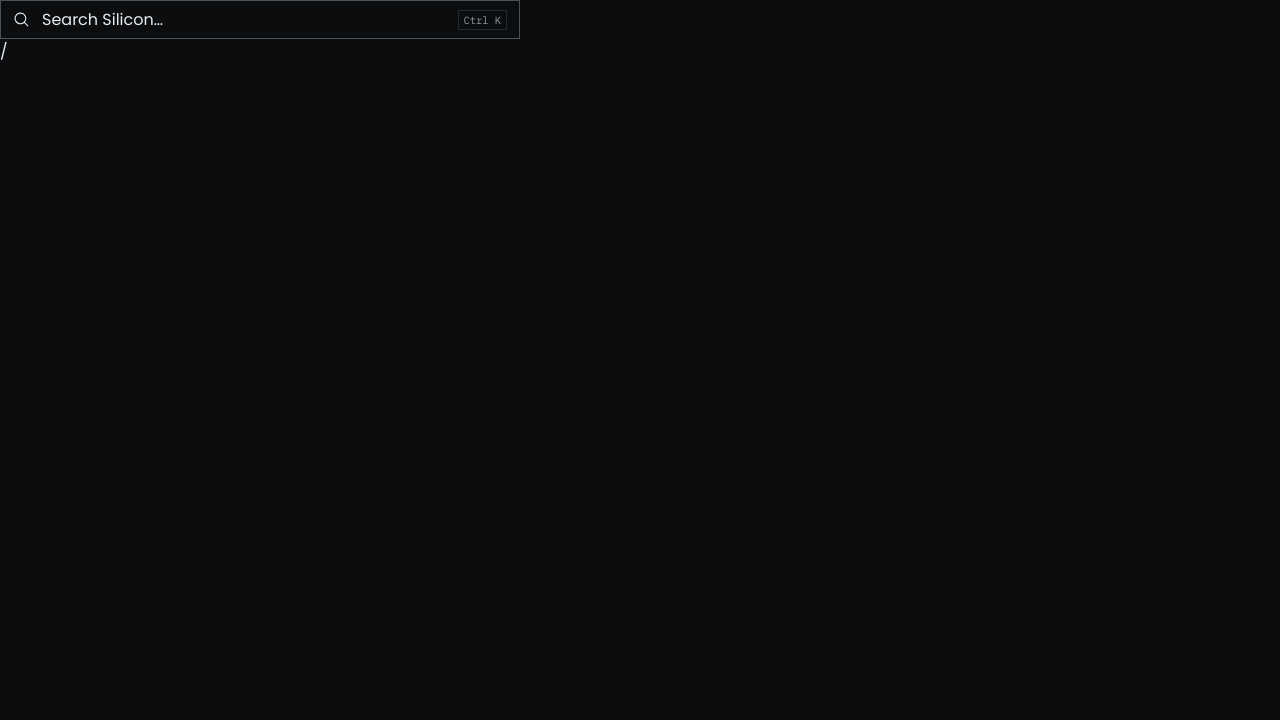
Test: CommandPalette › opens with the global shortcut and supports keyboard navigation
Press k
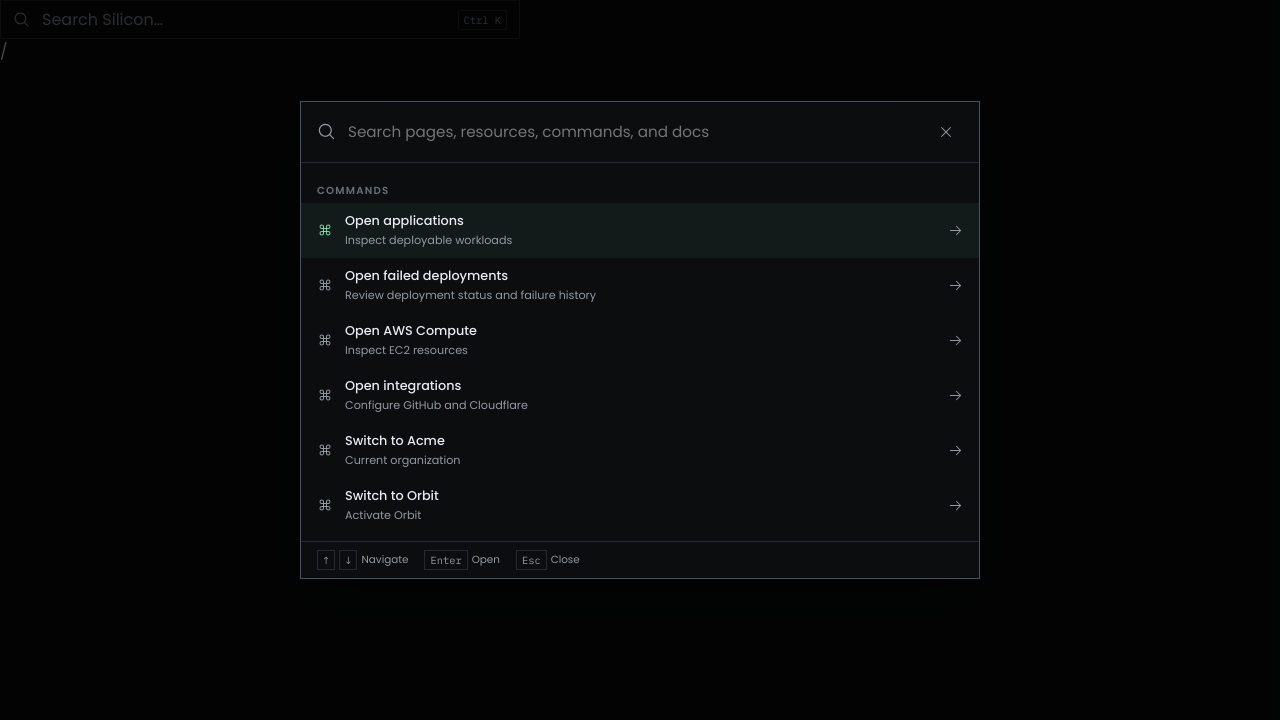
Type "applications" into the field labelled "Search pages, resources, commands, and docs" at x=632, y=132, box [348,114,917,150]
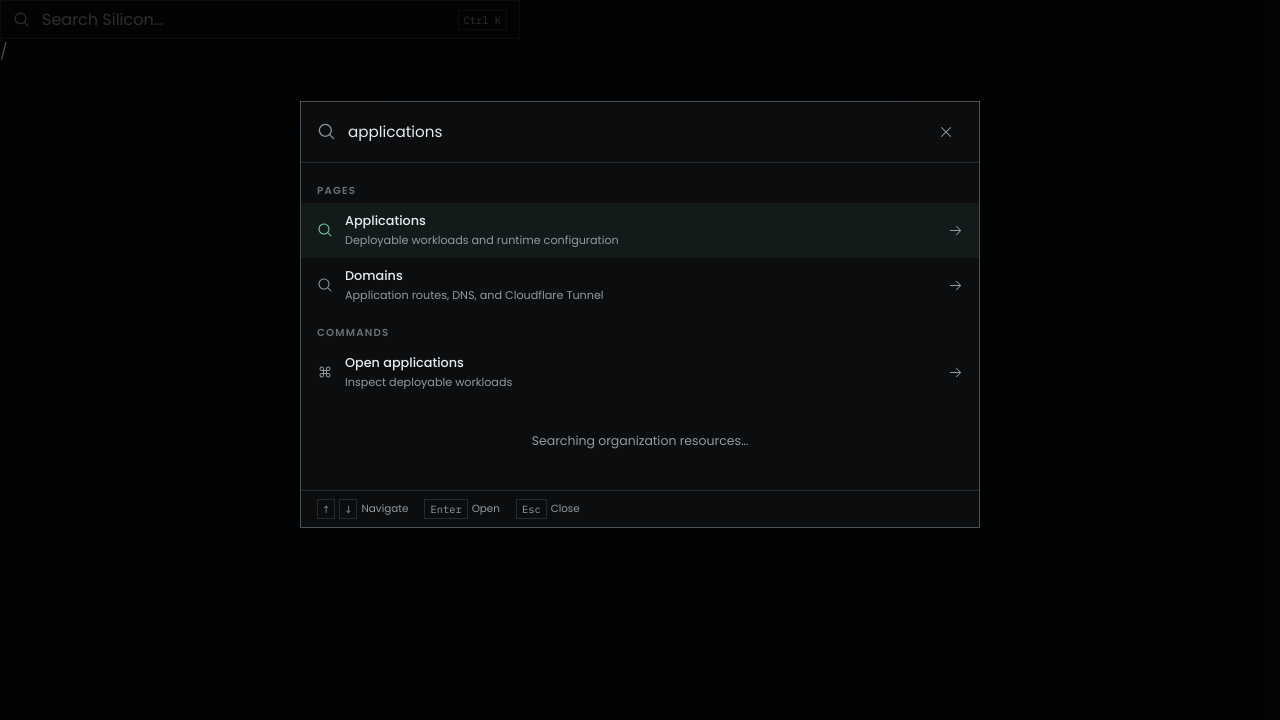
Press Enter in the field named "Search pages", box [348,114,917,150]
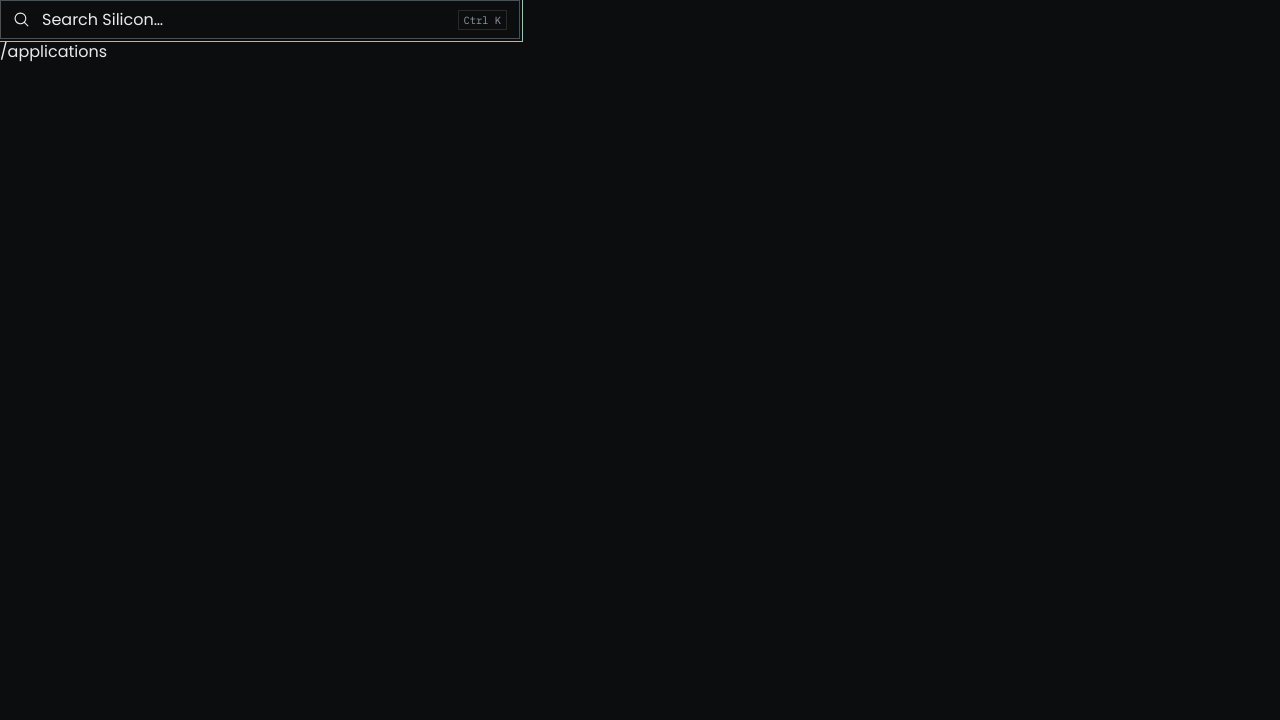
Now the text named "Current path" reads "/applications", box [0,40,107,63]
